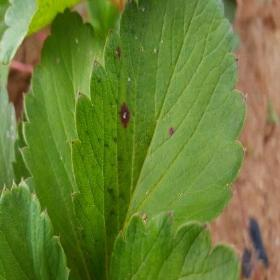Leaf Spot: (70, 0, 247, 279)
